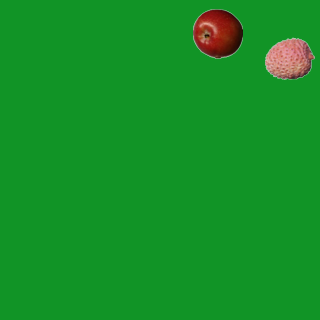Apple Braeburn: (192, 8, 242, 58)
Lychee: (264, 33, 314, 83)
